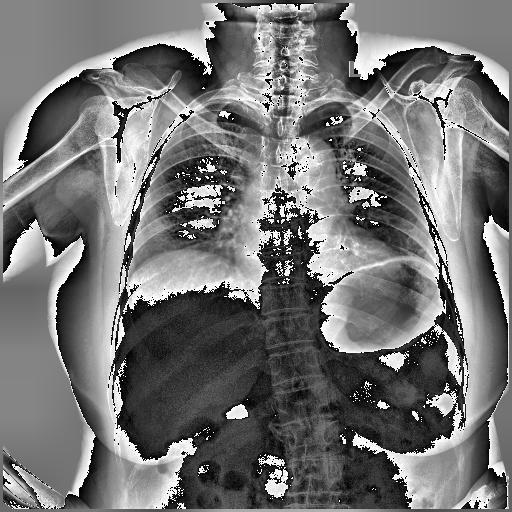0- Aortic enlargement: (283, 135, 342, 193), (287, 135, 338, 184), (292, 133, 338, 182)
11- Pleural thickening: (190, 98, 248, 110)
3- Cardiomegaly: (234, 230, 402, 298), (234, 240, 414, 291), (230, 226, 398, 278)
